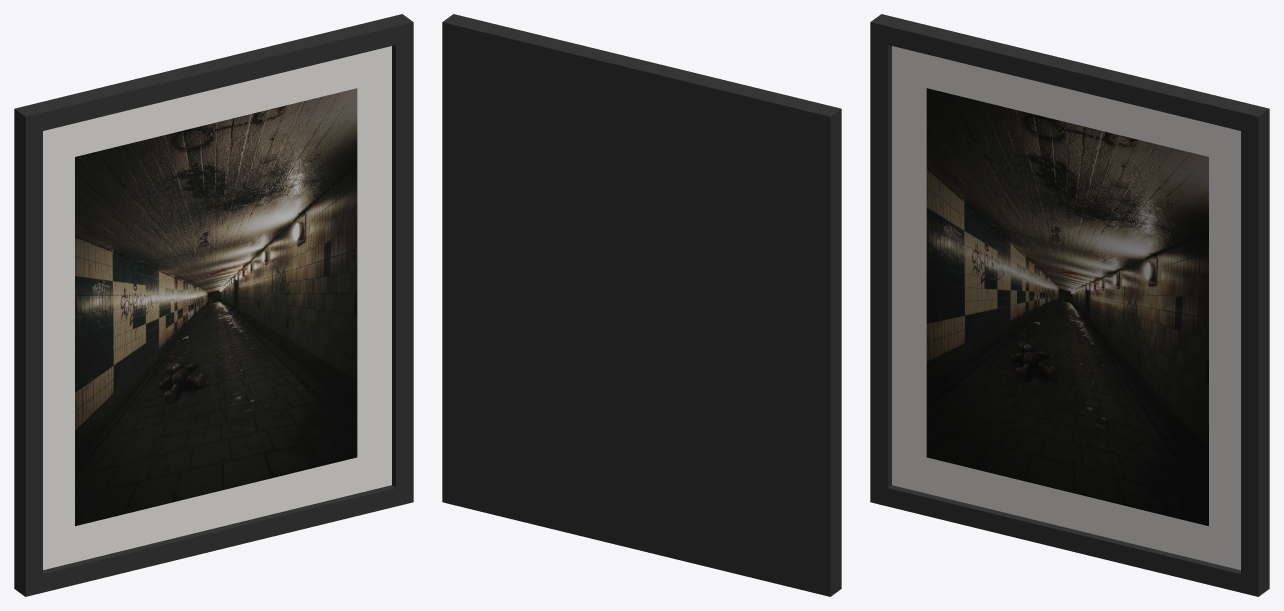
File: gangtunneln-40.gltf
3 renders of one model, left to right at view 1: azimuth 30°, elevation 25°; view 2: azimuth 150°, elevation 25°; view 3: azimuth 330°, elevation 25°, orthographic.
Visible parts, largest first — view 1: tavla; view 2: tavla; view 3: tavla.
Boxes of the visible parts, x1,y1,x2,y2 form: tavla: (14,14,413,596); tavla: (442,14,841,596); tavla: (870,14,1269,596).
Size of the model in its own units: 0.44 by 0.52 by 0.022.
Materials: 3 (1 with a texture image).
